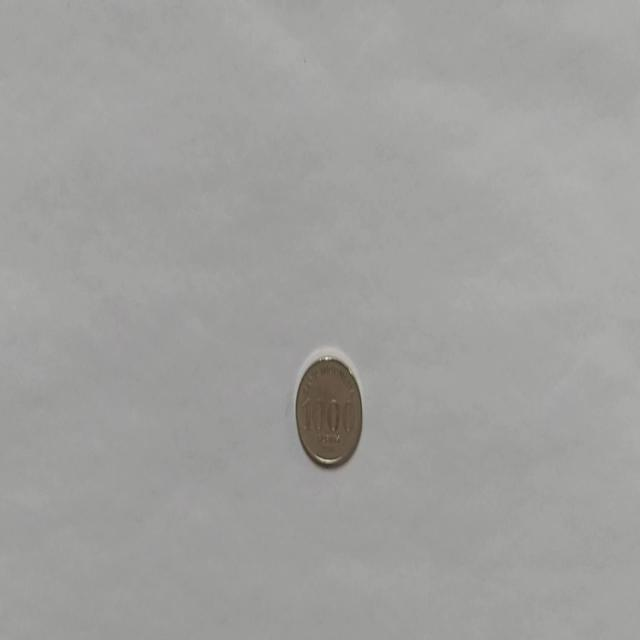seribu rupiah koin: (293, 349, 363, 468)
